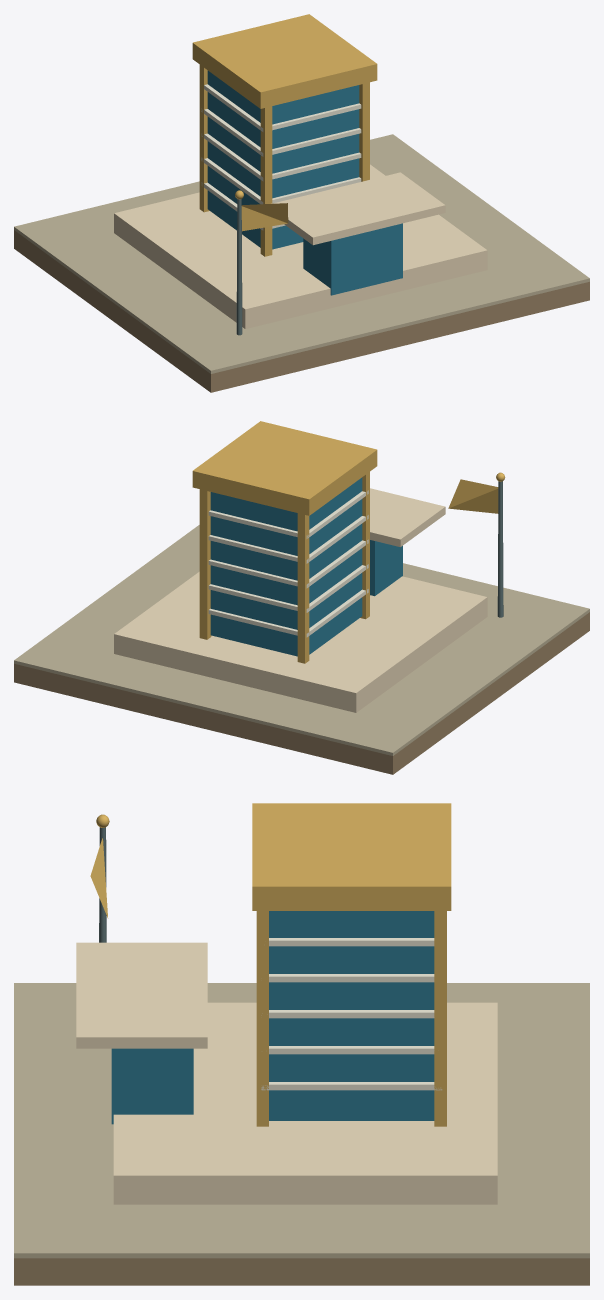
File: club-headquarters-lv1.glb
3 views of the same model, one above another, from view 1: azimuth 30°, elevation 25°; view 2: azimuth 150°, elevation 25°; view 3: azimuth 270°, elevation 25° (orthographic). The views are drawn at different scales.
Visible parts, largest first — view 1: foundation_paving, headquarters_plinth_cream, office_tower_glass, foundation_stoneDark, tower_crown_gold, entrance_canopy_cream, entrance_lobby_glass, floor_bands_white, tower_mullions_gold, flags_gold, flags_iron; view 2: foundation_paving, headquarters_plinth_cream, office_tower_glass, foundation_stoneDark, tower_crown_gold, floor_bands_white, tower_mullions_gold, entrance_canopy_cream, entrance_lobby_glass, flags_gold, flags_iron; view 3: foundation_paving, headquarters_plinth_cream, office_tower_glass, tower_crown_gold, foundation_stoneDark, entrance_canopy_cream, floor_bands_white, tower_mullions_gold, entrance_lobby_glass, flags_gold.
Boxes of the visible parts, bbox=[...] form: foundation_paving: bbox=[14, 134, 589, 373]; headquarters_plinth_cream: bbox=[114, 164, 487, 328]; office_tower_glass: bbox=[207, 70, 359, 249]; foundation_stoneDark: bbox=[14, 230, 589, 392]; tower_crown_gold: bbox=[192, 14, 377, 108]; entrance_canopy_cream: bbox=[271, 172, 445, 245]; entrance_lobby_glass: bbox=[303, 223, 402, 295]; floor_bands_white: bbox=[201, 84, 361, 230]; tower_mullions_gold: bbox=[199, 65, 369, 256]; flags_gold: bbox=[235, 190, 288, 231]; flags_iron: bbox=[236, 199, 242, 335]; foundation_paving: bbox=[14, 525, 589, 755]; headquarters_plinth_cream: bbox=[114, 571, 487, 712]; office_tower_glass: bbox=[210, 477, 362, 656]; foundation_stoneDark: bbox=[14, 612, 589, 774]; tower_crown_gold: bbox=[192, 421, 377, 515]; floor_bands_white: bbox=[208, 490, 368, 637]; tower_mullions_gold: bbox=[199, 472, 369, 663]; entrance_canopy_cream: bbox=[370, 488, 445, 547]; entrance_lobby_glass: bbox=[370, 540, 402, 596]; flags_gold: bbox=[448, 472, 505, 513]; flags_iron: bbox=[497, 481, 503, 617]; foundation_paving: bbox=[14, 983, 589, 1258]; headquarters_plinth_cream: bbox=[113, 1002, 497, 1204]; office_tower_glass: bbox=[269, 911, 434, 1120]; tower_crown_gold: bbox=[252, 803, 451, 910]; foundation_stoneDark: bbox=[14, 1258, 589, 1285]; entrance_canopy_cream: bbox=[76, 942, 207, 1048]; floor_bands_white: bbox=[261, 938, 442, 1090]; tower_mullions_gold: bbox=[256, 911, 446, 1126]; entrance_lobby_glass: bbox=[111, 1048, 193, 1124]; flags_gold: bbox=[90, 814, 109, 918].
Bounding box in the file's own units: 1 × 0.5264 × 0.9.
